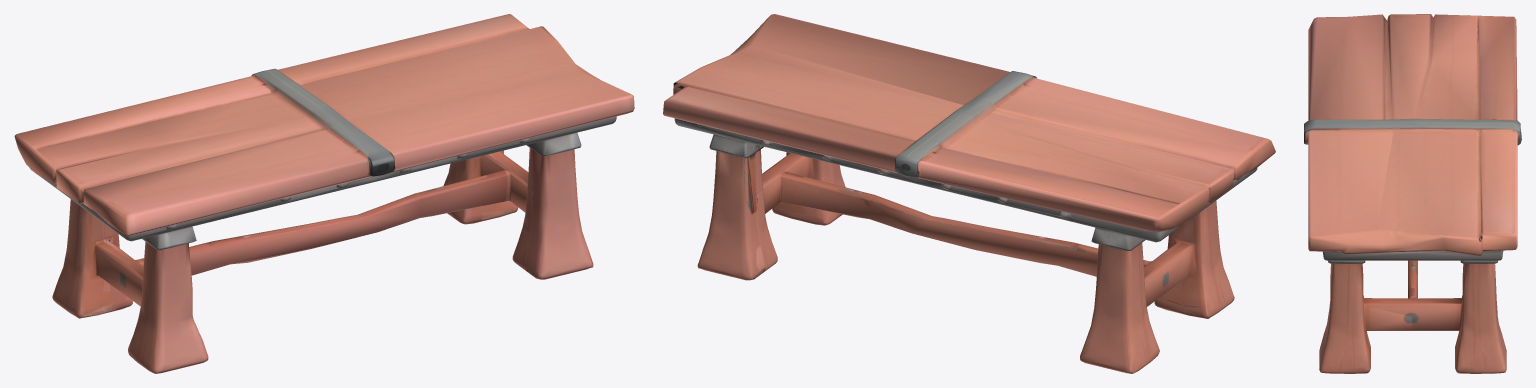
The model's file is Meshy_AI_Plank_Bench_0205061640_texture.fbx.
The picture shows the model from 3 angles, left to right: view 1: azimuth 30°, elevation 25°; view 2: azimuth 150°, elevation 25°; view 3: azimuth 270°, elevation 25°; orthographic projection. The views are drawn at different scales.
Parts seen in each view (by area): view 1: Mesh_0; view 2: Mesh_0; view 3: Mesh_0.
Part boxes in pixels (x1,y1,x2,y2): Mesh_0: (14, 14, 634, 373); Mesh_0: (663, 14, 1275, 373); Mesh_0: (1304, 14, 1521, 373).
Size of the model in its own units: 123 by 40 by 50.06.
Materials: 1 (1 with a texture image).
